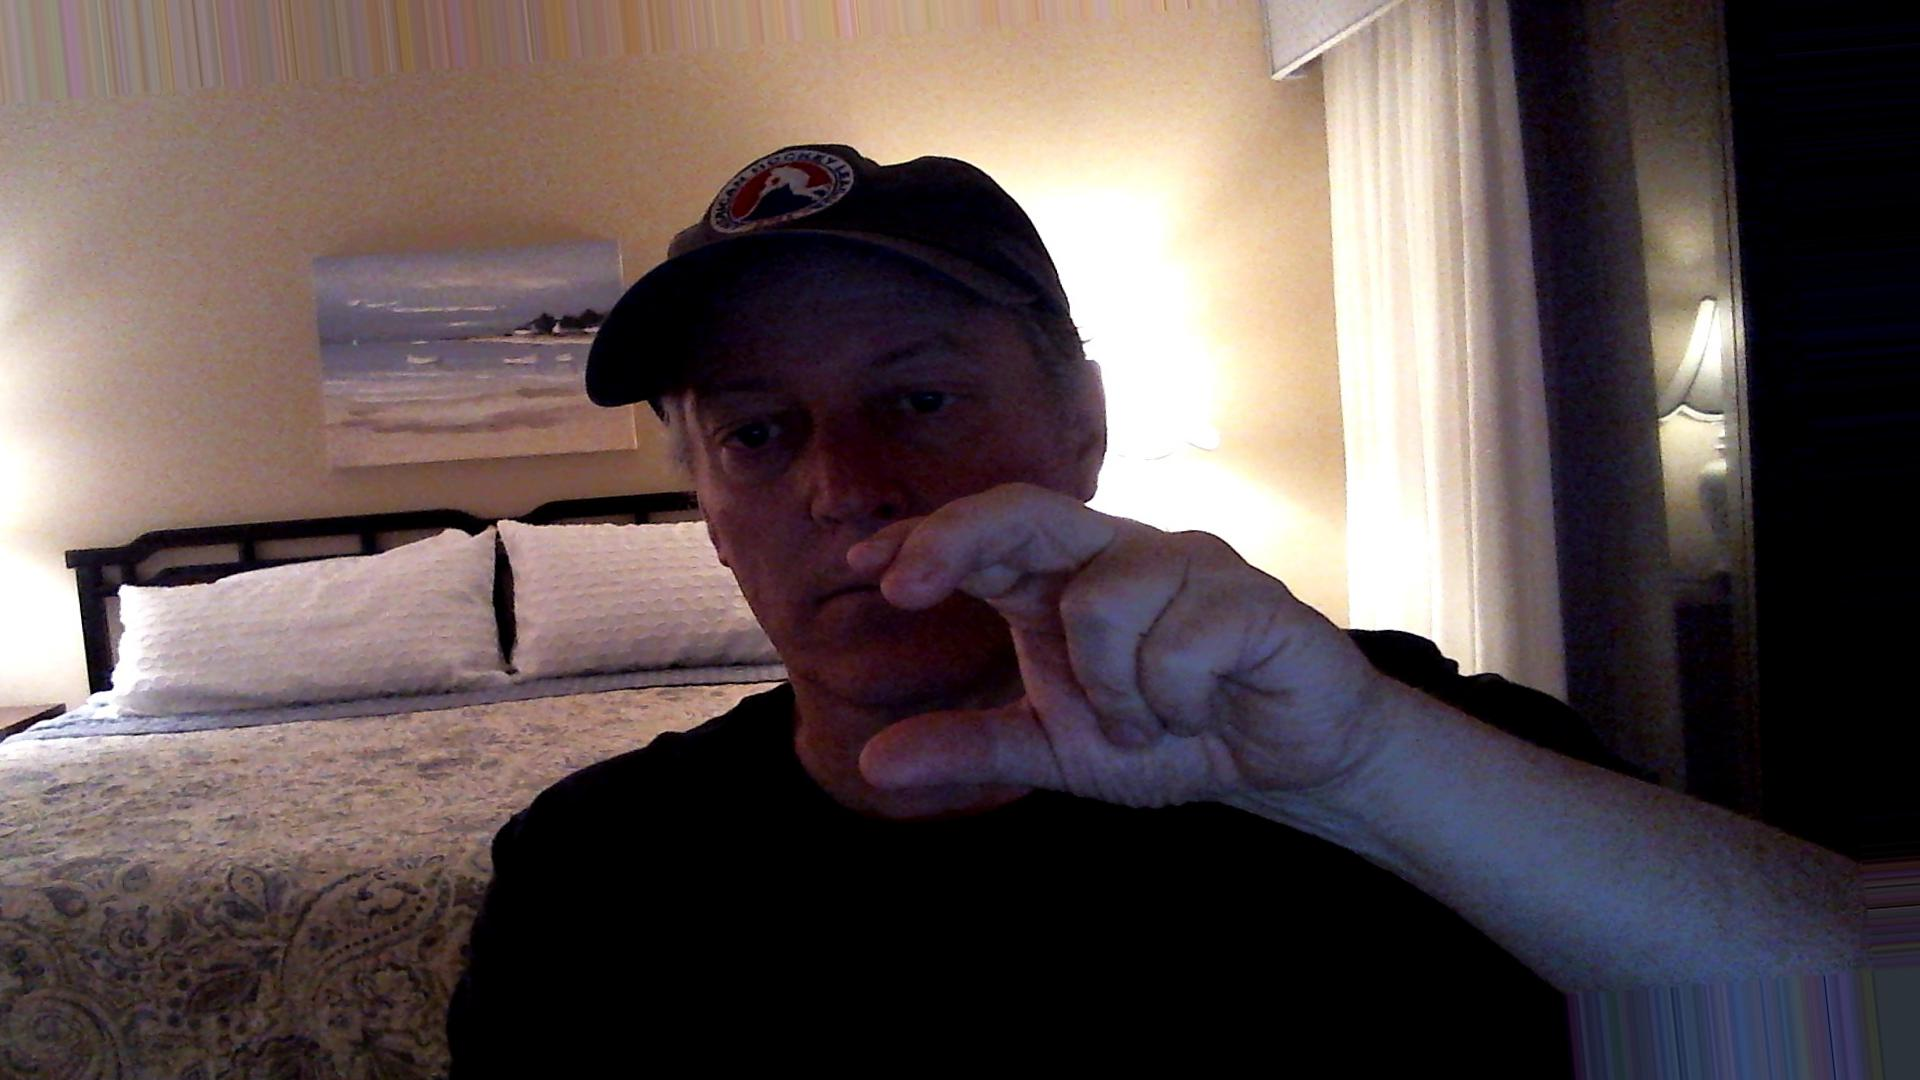No: (814, 465, 1429, 820)
